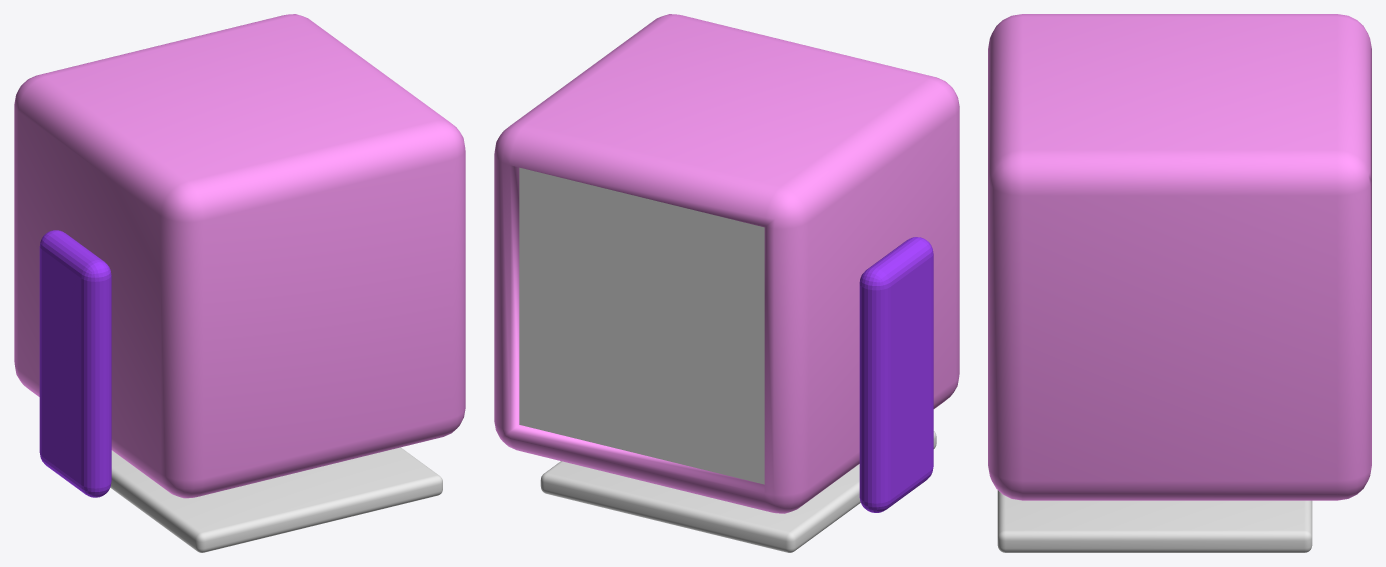
The model's file is robo.fbx.
3 renders of one model, left to right at view 1: azimuth 30°, elevation 25°; view 2: azimuth 150°, elevation 25°; view 3: azimuth 270°, elevation 25°, orthographic. The views are drawn at different scales.
Visible parts, largest first — view 1: Cube, Cube.003, Cube.002; view 2: Cube, Cube.001, Cube.003, Cube.002; view 3: Cube, Cube.002.
Part boxes in pixels (x1=…): Cube: x1=14, y1=14, x2=465, y2=498; Cube.003: x1=39, y1=230, x2=111, y2=497; Cube.002: x1=110, y1=447, x2=442, y2=552; Cube: x1=494, y1=14, x2=959, y2=513; Cube.001: x1=519, y1=167, x2=764, y2=484; Cube.003: x1=859, y1=237, x2=933, y2=512; Cube.002: x1=540, y1=431, x2=936, y2=552; Cube: x1=988, y1=14, x2=1371, y2=500; Cube.002: x1=997, y1=490, x2=1312, y2=552.
Size of the model in its own units: 219 by 233 by 200.
